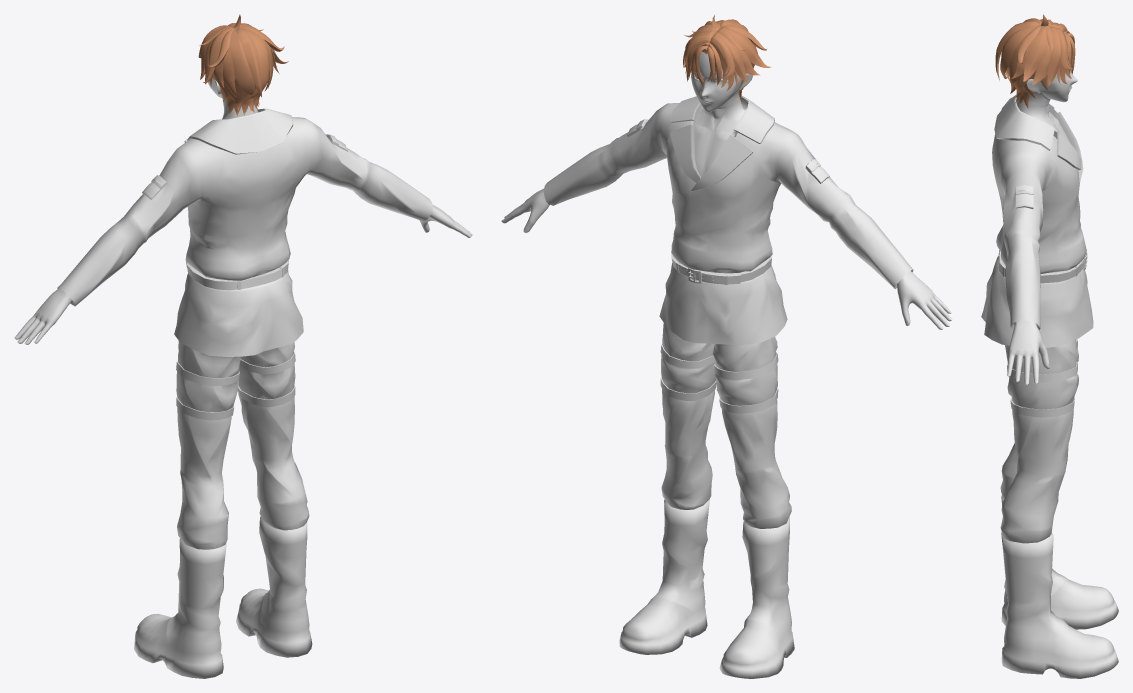
File: Shin.fbx
3 renders of one model, left to right at view 1: azimuth 30°, elevation 25°; view 2: azimuth 150°, elevation 25°; view 3: azimuth 270°, elevation 25°, orthographic.
Parts seen in each view (by area): view 1: shirt, leg, shoe, hair; view 2: shirt, leg, shoe, hair, dau; view 3: shirt, shoe, leg, hair, dau.
Part boxes in pixels (x1,y1,x2,y2): shirt: (14,107,472,356); leg: (176,341,309,549); shoe: (134,516,312,678); hair: (198,14,288,116); shirt: (501,96,952,345); leg: (660,323,791,528); shoe: (619,499,794,678); hair: (683,15,770,101); dau: (691,51,753,112); shirt: (981,94,1093,384); shoe: (1001,495,1118,678); leg: (1000,339,1078,543); hair: (995,14,1075,108); dau: (1019,70,1077,107).
Size of the model in its own units: 1768 by 471 by 2376.
